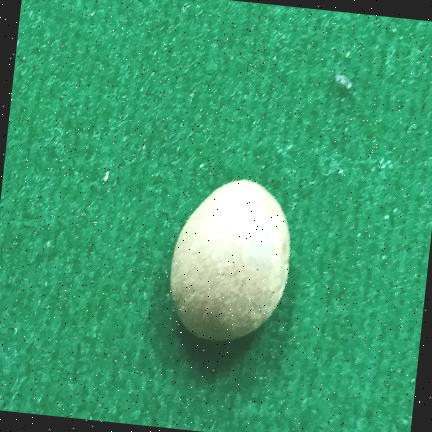good: (171, 180, 290, 341)
